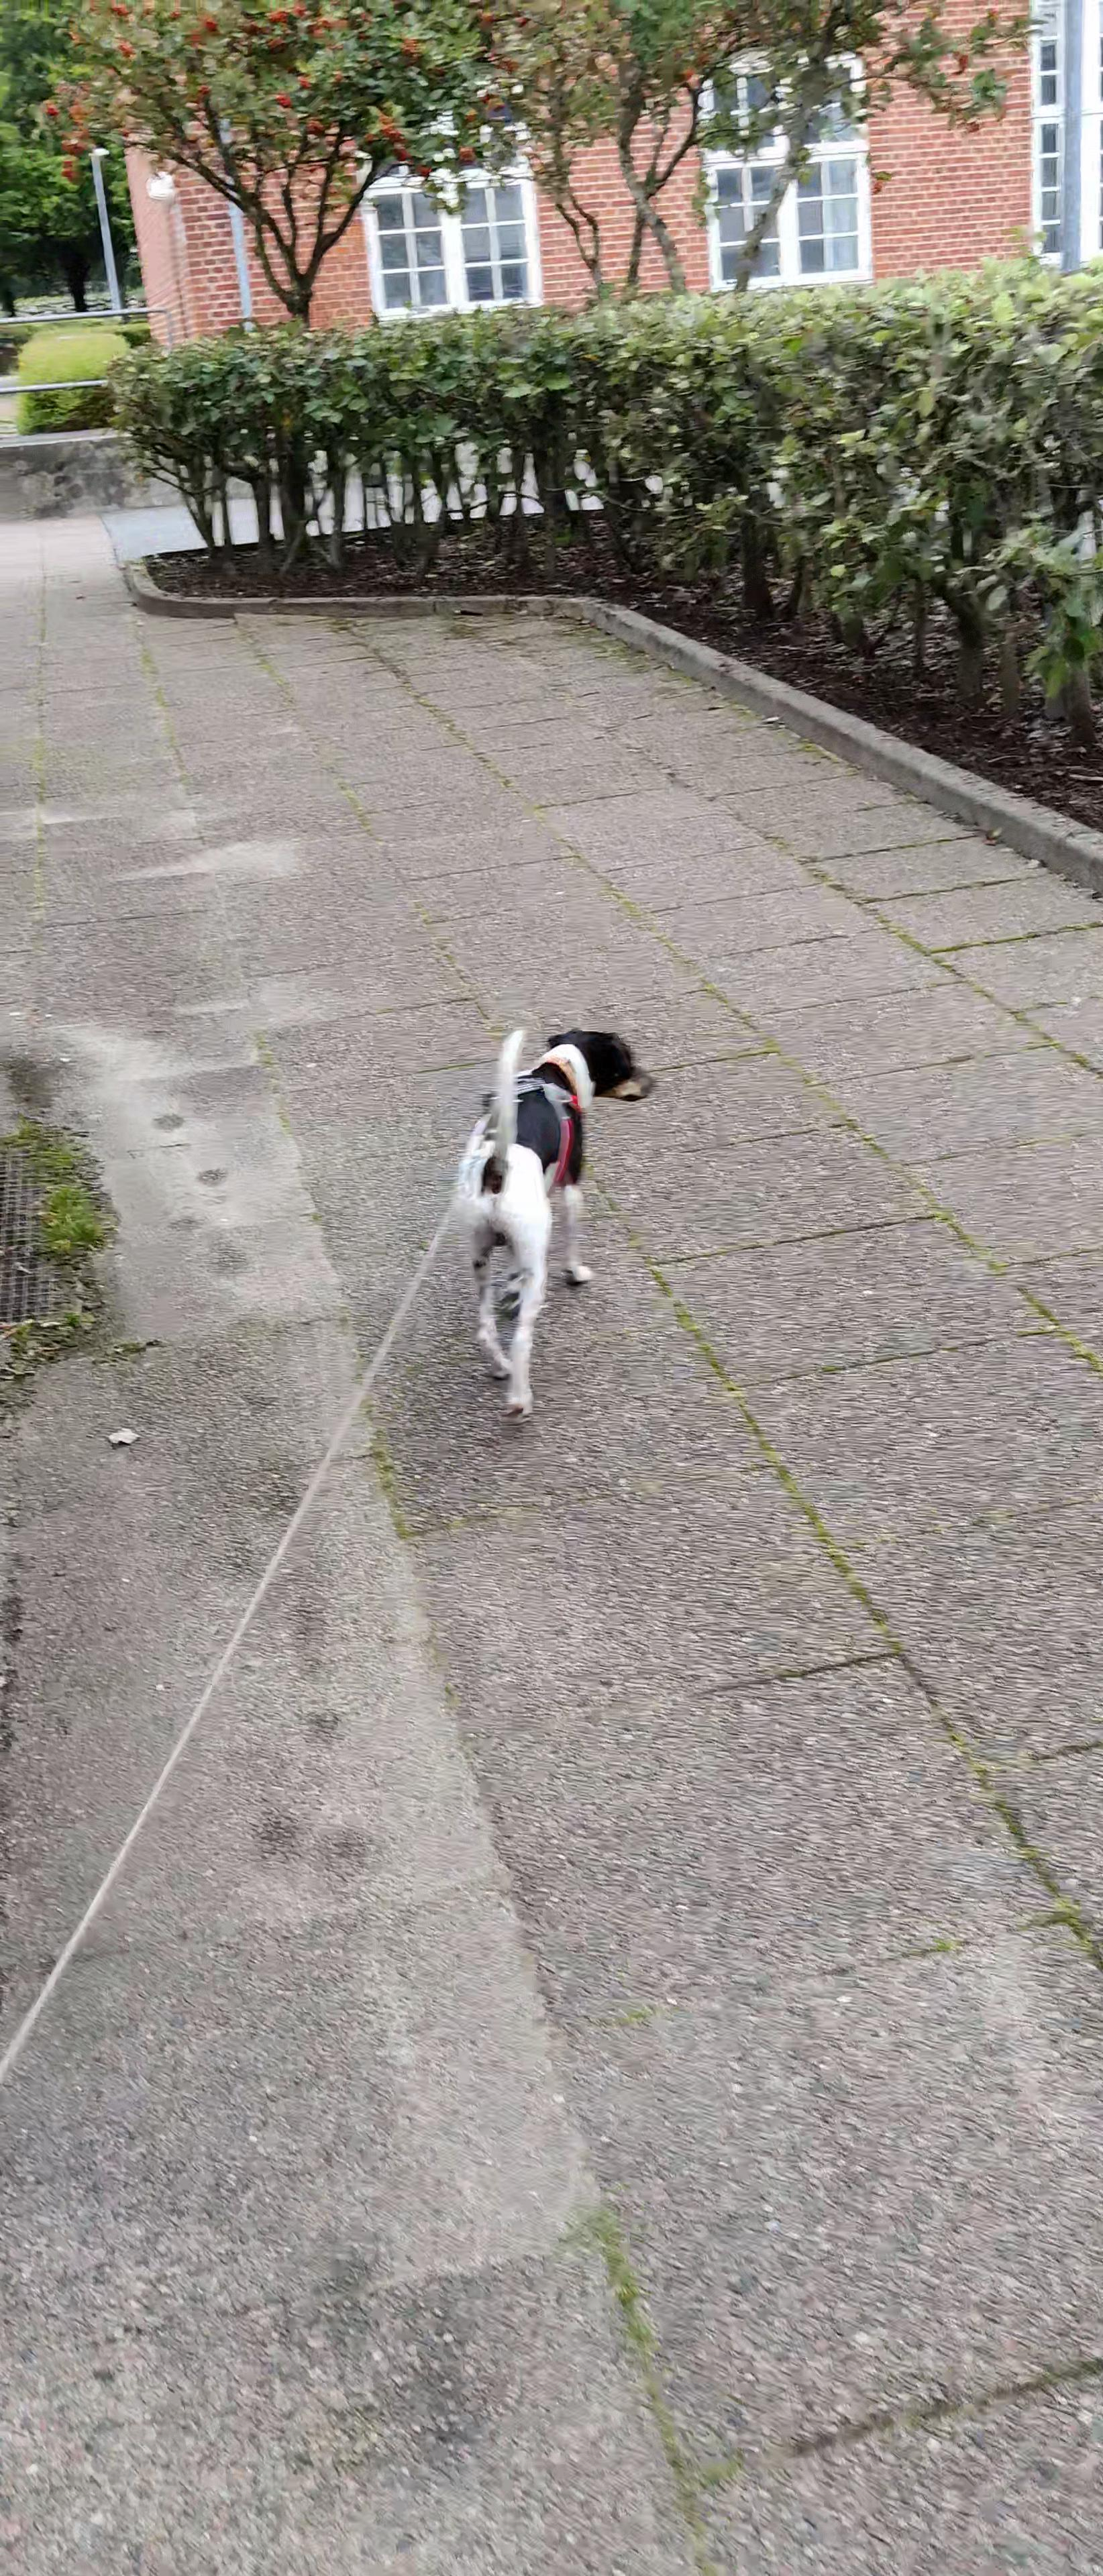Dog: (444, 1005, 666, 1428)
